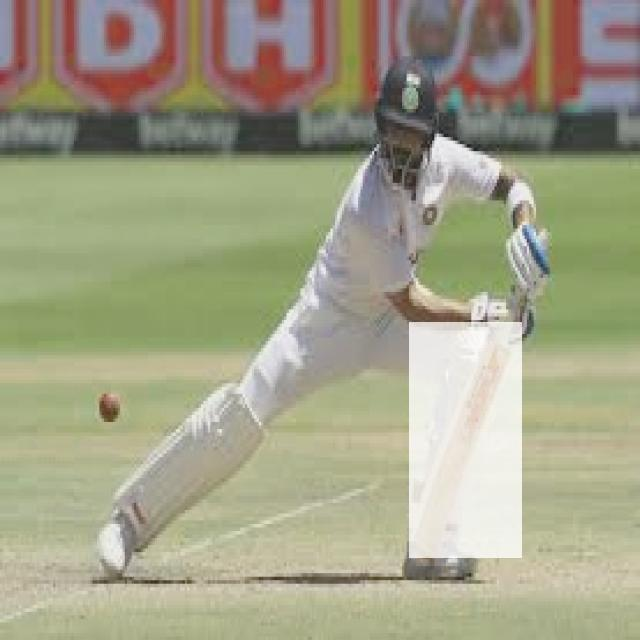bat: (408, 320, 522, 560)
toe: (409, 538, 433, 559)
